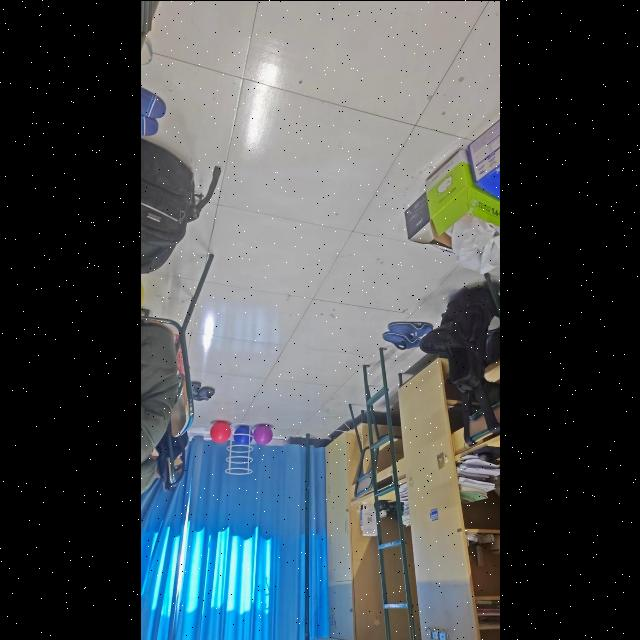B: (230, 425, 252, 445)
P: (252, 422, 270, 446)
R: (208, 418, 228, 446)
S: (225, 424, 252, 476)
